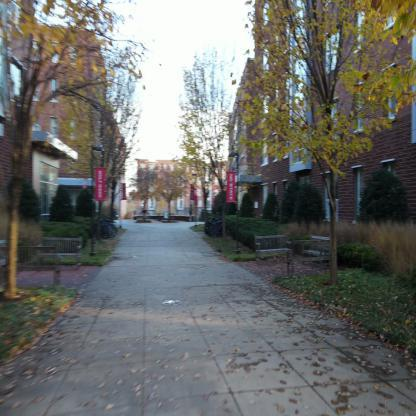Wolf Ridge: (240, 3, 412, 330), (0, 43, 147, 294), (134, 142, 232, 236)
